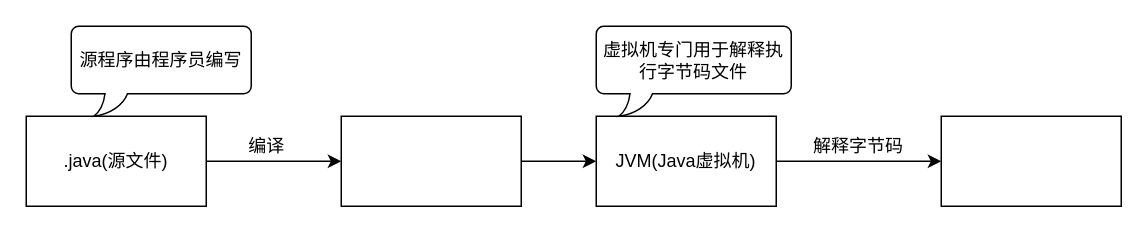
The diagram is 1148 pixels wide and 233 high, and some of its shapes have lost their labels. The centre of each missing label's shape, as x and y in pixels:
.class(字节码): the point at 430,160
机器语言: the point at 1030,160
